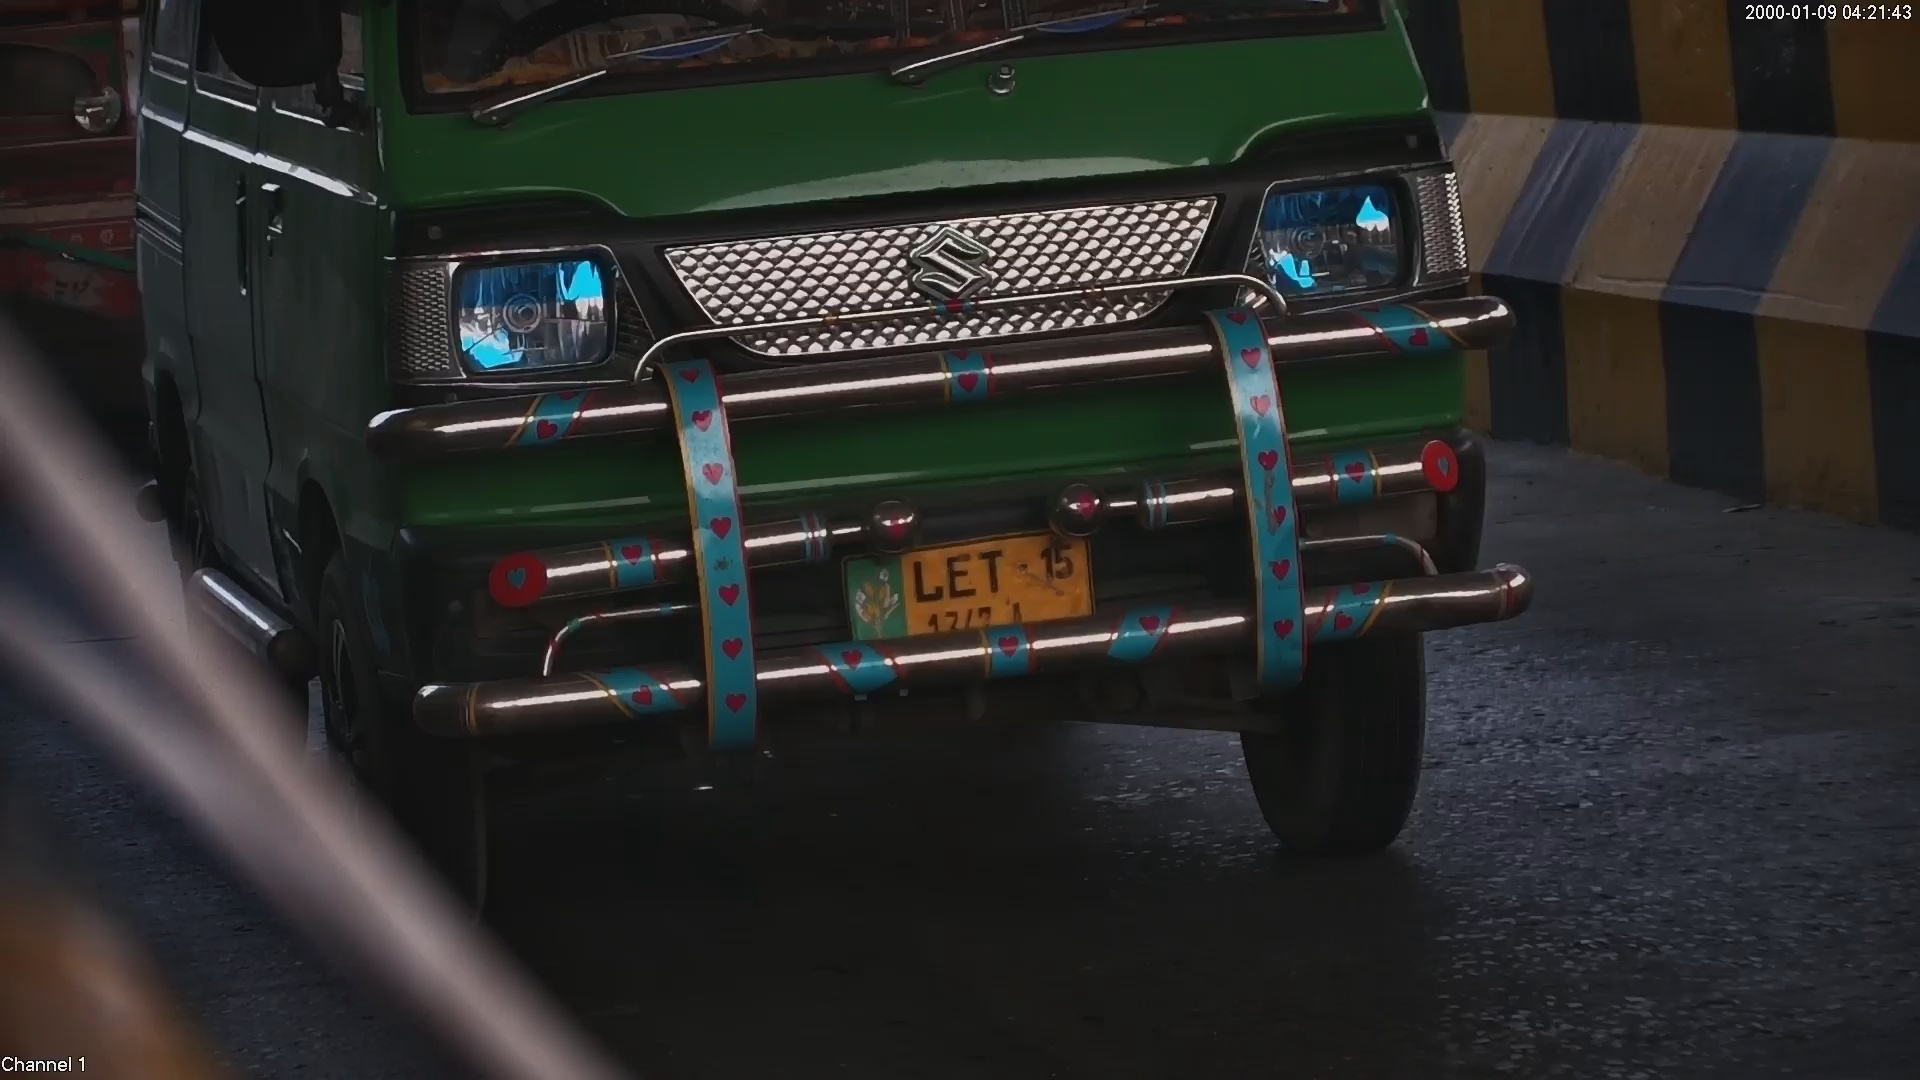Number_Plate: (810, 514, 1123, 662)
Undefined: (367, 207, 684, 423), (1223, 144, 1471, 314), (880, 214, 1013, 312)
